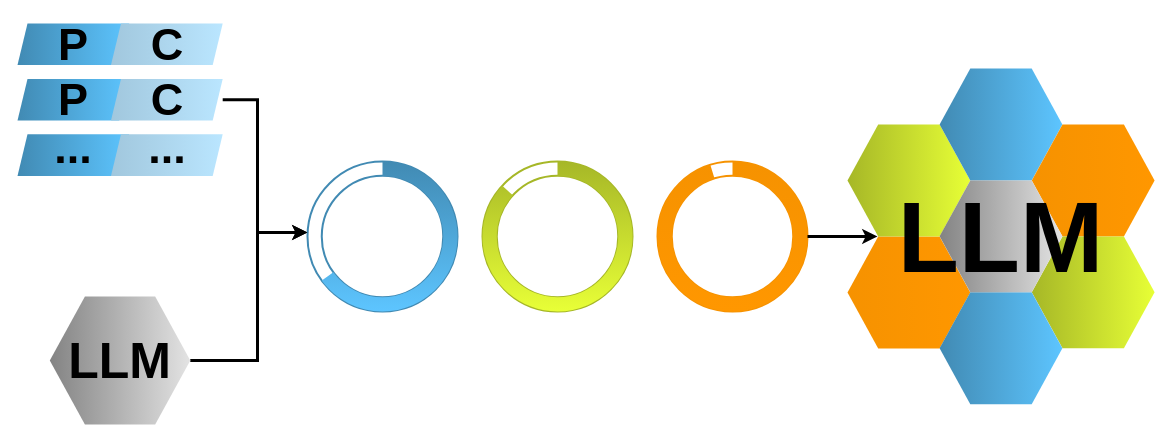
Some shapes in this 1172 by 442 pixel diagram are drawn without their labels. Each missing label, with the centre of its shape:
E1: the point at 382,236
E2: the point at 557,236
E3: the point at 732,236
